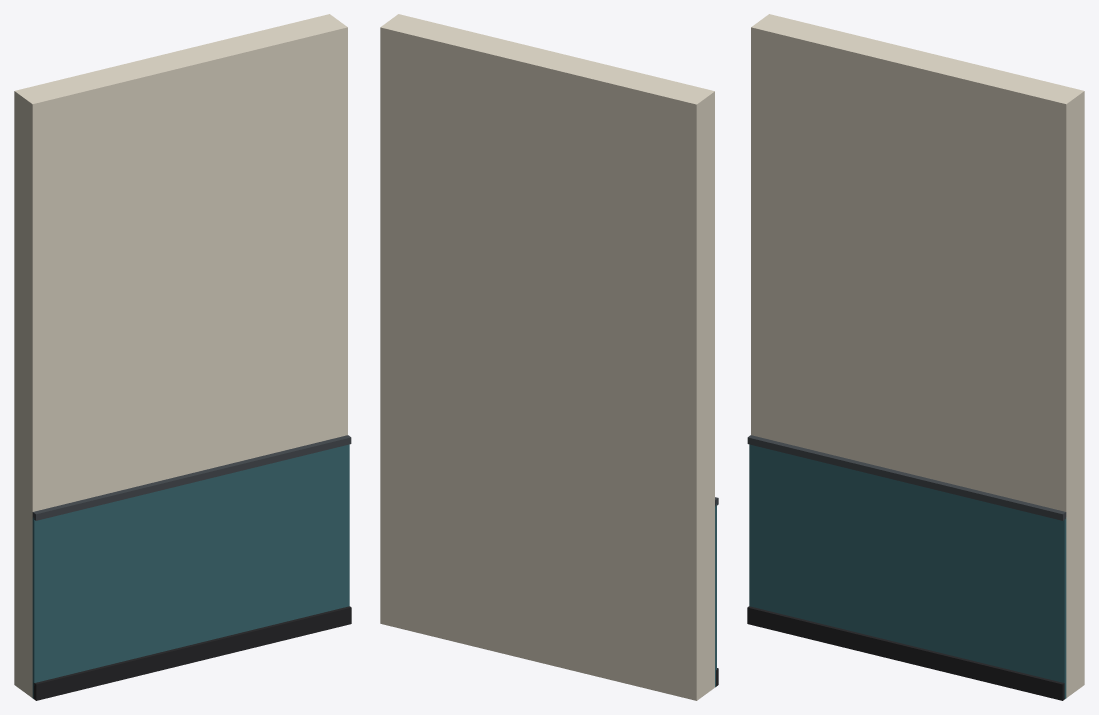
Rendered from Env_WallPanel.fbx.
3 views of the same model, side by side, from view 1: azimuth 30°, elevation 25°; view 2: azimuth 150°, elevation 25°; view 3: azimuth 330°, elevation 25° (orthographic).
Parts seen in each view (by area): view 1: Env_Wall, Env_Wainscot, Env_Skirting, Env_WainscotRail; view 2: Env_Wall; view 3: Env_Wall, Env_Wainscot, Env_Skirting, Env_WainscotRail.
Part boxes in pixels (bbox=[...]): Env_Wall: bbox=[14, 14, 347, 697]; Env_Wainscot: bbox=[32, 444, 349, 698]; Env_Skirting: bbox=[33, 606, 351, 700]; Env_WainscotRail: bbox=[32, 435, 351, 520]; Env_Wall: bbox=[380, 14, 714, 700]; Env_Wall: bbox=[751, 14, 1084, 697]; Env_Wainscot: bbox=[749, 444, 1066, 698]; Env_Skirting: bbox=[747, 606, 1064, 700]; Env_WainscotRail: bbox=[747, 435, 1066, 520].
Bounding box in the file's own units: 2 × 3.6 × 0.24.
